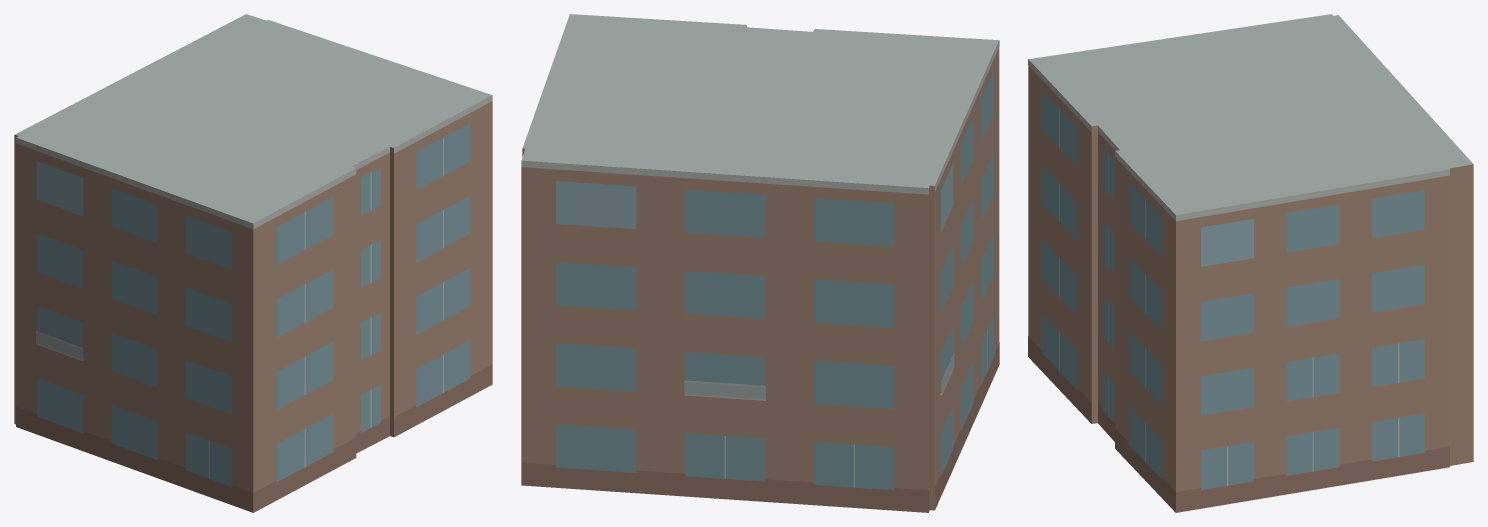
File: survey-upis-32883424.glb
3 views of the same model, side by side, from view 1: azimuth 30°, elevation 25°; view 2: azimuth 150°, elevation 25°; view 3: azimuth 270°, elevation 25° (orthographic). The views are drawn at different scales.
Parts seen in each view (by area): view 1: survey-upis-32883424.tmp; view 2: survey-upis-32883424.tmp; view 3: survey-upis-32883424.tmp.
Boxes of the visible parts, x1,y1,x2,y2 form: survey-upis-32883424.tmp: (14,14,492,512); survey-upis-32883424.tmp: (521,14,999,512); survey-upis-32883424.tmp: (1028,14,1473,512).
Size of the model in its own units: 17.7 by 12.2 by 16.56.
